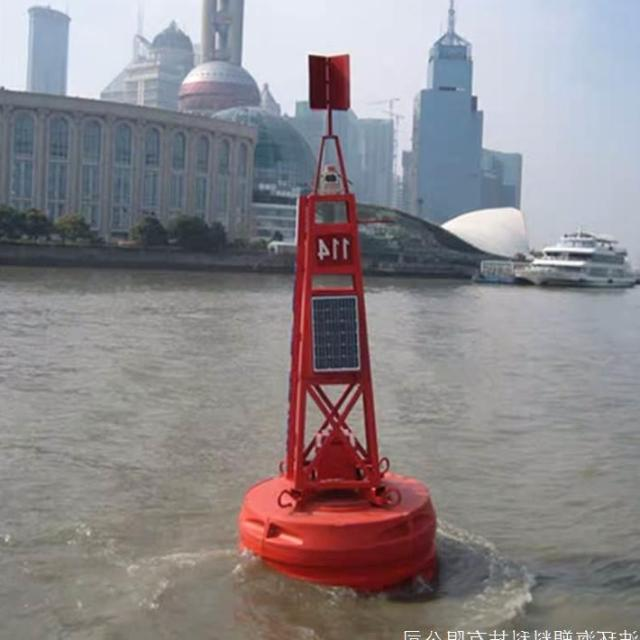buoy: (236, 43, 444, 589)
